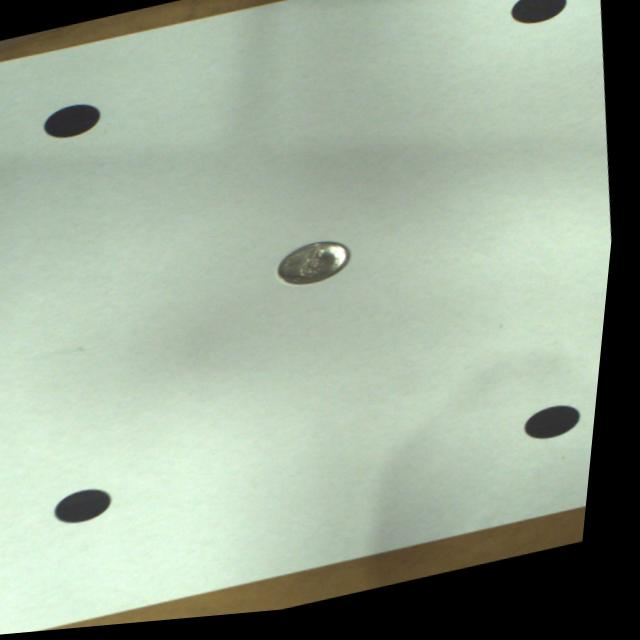space: (282, 248, 354, 292), (45, 106, 101, 140), (511, 1, 567, 34), (64, 492, 119, 525), (534, 417, 589, 450)
